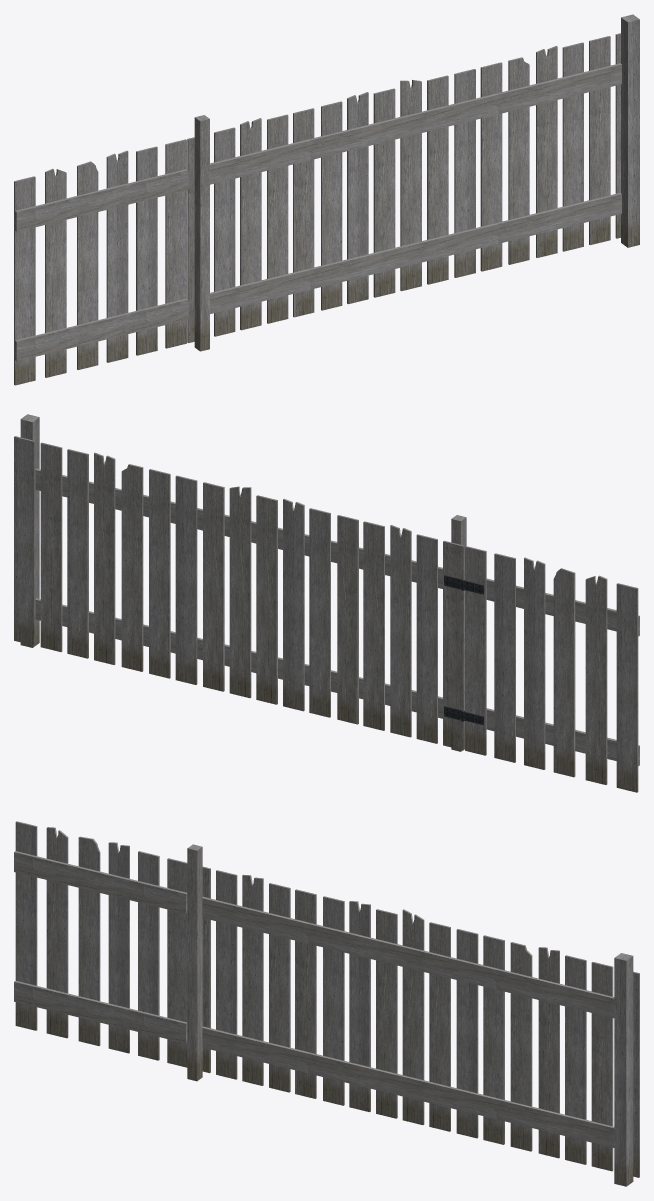
The model's file is Wooden fence 2.FBX.
3 renders of one model, top to bottom at view 1: azimuth 30°, elevation 25°; view 2: azimuth 150°, elevation 25°; view 3: azimuth 330°, elevation 25°, orthographic.
Visible parts, largest first — view 1: Wooden_Door, Wooden_fence, Wooden_fence_st1, Wood_f_6, Wood_f_10, Wooden_fence_st2, Wood_f_9, Wood_f_11, Wood_f_15, Wood_f_4, Wood_f_14, Wood_f_12 (+9 smaller); view 2: Wooden_Door, Wood_f_9, Wood_f_2, Wood_f_7, Wood_f_5, Wood_f_4, Wood_f_15, Wood_f_11, Wood_f_3, Wood_f_12, Wood_f_6, Wood_f_14 (+9 smaller); view 3: Wooden_Door, Wooden_fence, Wooden_fence_st1, Wood_f_9, Wood_f_7, Wood_f_2, Wooden_fence_st2, Wood_f_5, Wood_f_15, Wood_f_11, Wood_f_4, Wood_f_12 (+9 smaller).
Boxes of the visible parts, box(x1,y1,x2,y2) form: Wooden_Door: box(14, 139, 188, 385); Wooden_fence: box(210, 63, 621, 313); Wooden_fence_st1: box(621, 14, 639, 247); Wood_f_6: box(480, 62, 502, 271); Wood_f_10: box(373, 88, 395, 297); Wooden_fence_st2: box(194, 115, 209, 351); Wood_f_9: box(400, 80, 421, 291); Wood_f_11: box(347, 92, 368, 304); Wood_f_15: box(240, 118, 261, 330); Wood_f_4: box(536, 46, 557, 257); Wood_f_14: box(267, 114, 288, 323); Wood_f_12: box(321, 101, 342, 310); Wooden_Door: box(465, 546, 639, 792); Wood_f_9: box(229, 486, 251, 698); Wood_f_2: box(40, 442, 62, 651); Wood_f_7: box(175, 475, 197, 684); Wood_f_5: box(121, 464, 143, 671); Wood_f_4: box(94, 452, 115, 664); Wood_f_15: box(390, 525, 411, 737); Wood_f_11: box(283, 498, 304, 711); Wood_f_3: box(67, 449, 88, 658); Wood_f_12: box(309, 508, 330, 717); Wood_f_6: box(149, 469, 170, 678); Wood_f_14: box(363, 521, 384, 730); Wooden_Door: box(14, 821, 187, 1067); Wooden_fence: box(202, 896, 614, 1147); Wooden_fence_st1: box(614, 953, 633, 1186); Wood_f_9: box(402, 909, 424, 1124); Wood_f_7: box(456, 929, 478, 1138); Wood_f_2: box(591, 962, 613, 1171); Wooden_fence_st2: box(187, 844, 202, 1081); Wood_f_5: box(510, 942, 532, 1151); Wood_f_15: box(242, 874, 263, 1085); Wood_f_11: box(349, 901, 370, 1112); Wood_f_4: box(538, 947, 559, 1158); Wood_f_12: box(323, 896, 344, 1105).
Bounding box in the file's own units: 412 × 11.31 × 146.
